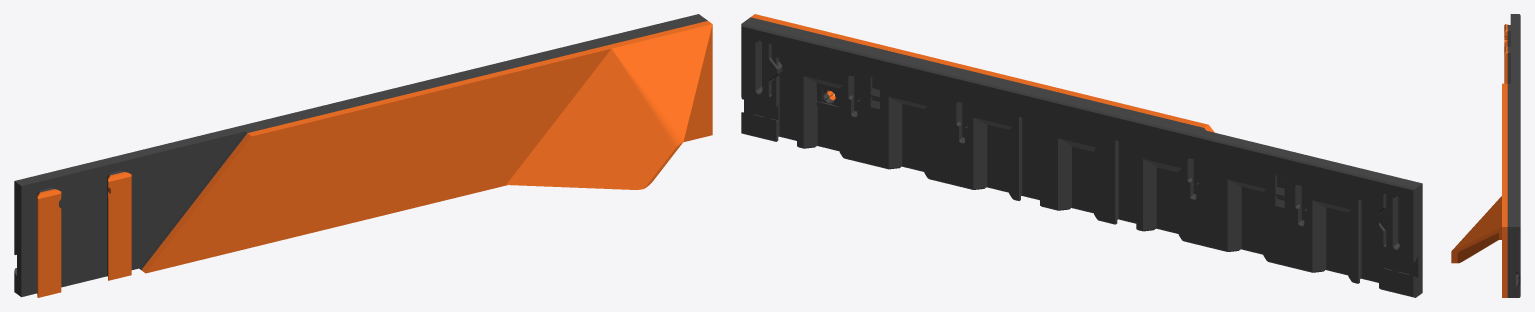
The model's file is Faceplate_EdgeLabel_2W-05H.lib.glb.
3 renders of one model, left to right at view 1: azimuth 30°, elevation 25°; view 2: azimuth 150°, elevation 25°; view 3: azimuth 270°, elevation 25°, orthographic. The views are drawn at different scales.
Visible parts, largest first — view 1: Faceplate_EdgeLabel_2W-05H; view 2: Faceplate_EdgeLabel_2W-05H; view 3: Faceplate_EdgeLabel_2W-05H.
Part boxes in pixels (x1,y1,x2,y2): Faceplate_EdgeLabel_2W-05H: (14, 14, 712, 297); Faceplate_EdgeLabel_2W-05H: (741, 14, 1422, 297); Faceplate_EdgeLabel_2W-05H: (1451, 14, 1520, 297).
Size of the model in its own units: 175 by 27.15 by 24.1.
